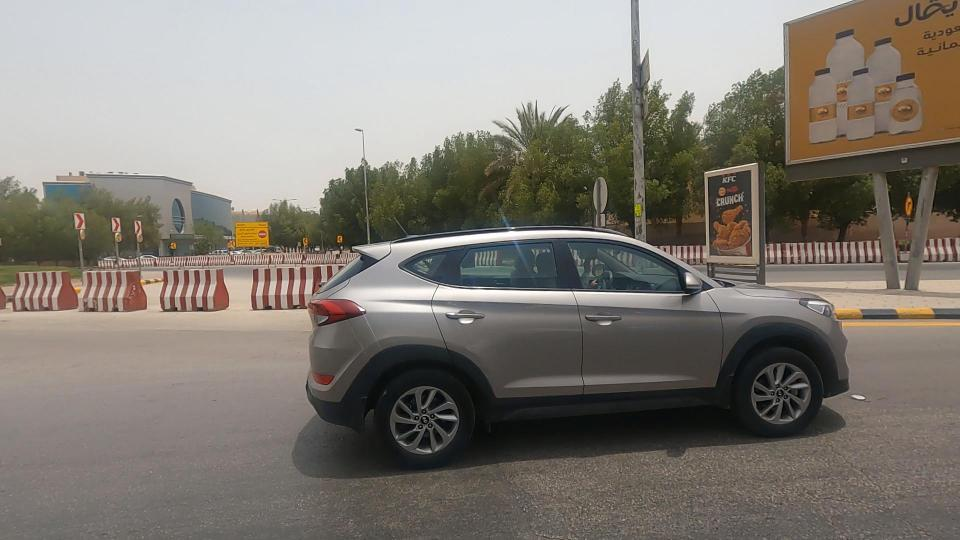CONSTRUCTION_ROAD: (224, 204, 411, 284), (139, 235, 310, 283)
